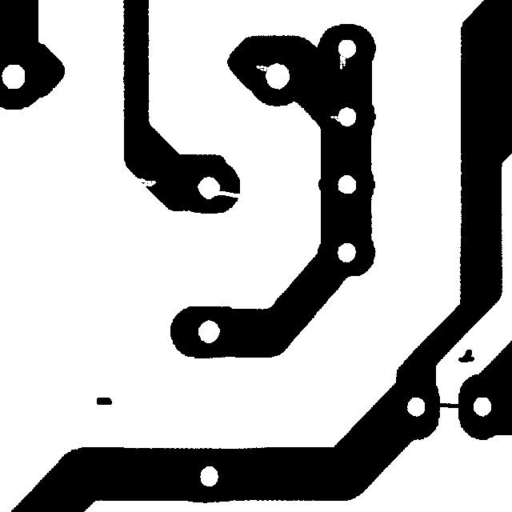copper: (450, 342, 482, 370), (89, 390, 119, 412)
mousebite: (129, 170, 163, 194), (332, 42, 353, 77), (248, 58, 278, 79), (322, 108, 350, 129)
open: (206, 183, 250, 206)
short: (429, 395, 470, 415)
